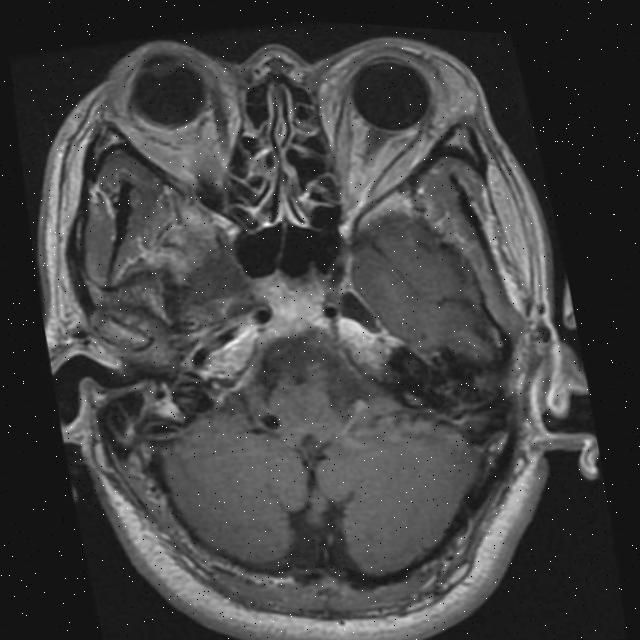Pituitary: (248, 262, 332, 346)
